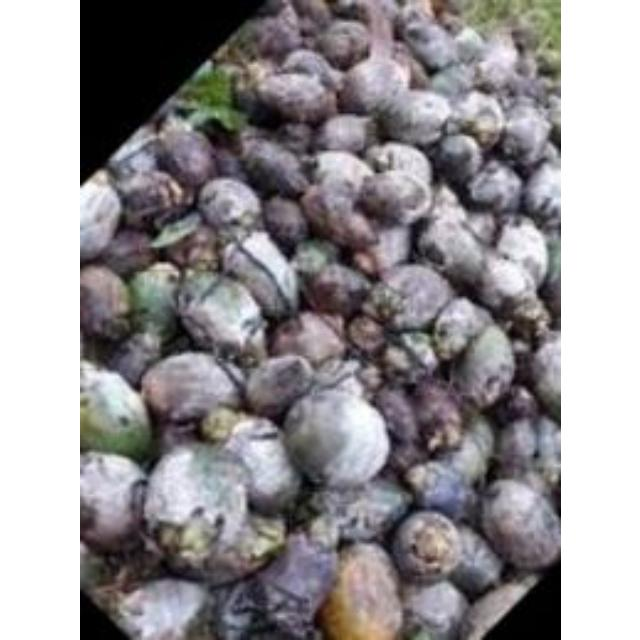damaged: (140, 442, 254, 568), (220, 530, 338, 640), (283, 383, 392, 489), (318, 544, 402, 640), (140, 350, 242, 428), (220, 418, 300, 516), (177, 275, 269, 359), (478, 478, 558, 568), (221, 231, 299, 321), (80, 453, 146, 549), (307, 480, 403, 544), (416, 208, 490, 290), (446, 324, 514, 406), (390, 509, 464, 581), (376, 263, 452, 333), (125, 264, 183, 348), (241, 353, 313, 419), (252, 70, 336, 126), (375, 88, 453, 148), (268, 310, 348, 368), (406, 379, 466, 456), (395, 578, 467, 640), (404, 458, 478, 518), (240, 137, 310, 199), (113, 169, 183, 227), (152, 126, 215, 190), (339, 54, 406, 114), (301, 260, 371, 316), (473, 254, 535, 316), (428, 294, 488, 358), (444, 527, 502, 593), (492, 220, 548, 288), (80, 264, 130, 340), (195, 176, 261, 232), (246, 3, 306, 62), (446, 90, 504, 148), (496, 105, 550, 167), (365, 142, 433, 190), (307, 149, 375, 197), (492, 416, 542, 478), (106, 334, 162, 388), (464, 160, 522, 212), (162, 220, 222, 270), (312, 19, 370, 70), (469, 36, 521, 90), (98, 228, 154, 276), (520, 157, 560, 223), (455, 415, 495, 481), (432, 132, 482, 182), (384, 328, 436, 376), (261, 196, 309, 247), (278, 48, 338, 88), (316, 112, 370, 154), (80, 538, 116, 598), (231, 70, 273, 121), (532, 418, 560, 488), (291, 237, 335, 277), (426, 62, 472, 100), (344, 312, 386, 352), (209, 140, 247, 182), (429, 184, 467, 226), (462, 208, 498, 246), (276, 120, 316, 154), (396, 48, 428, 90), (354, 358, 386, 394), (349, 248, 378, 280)
